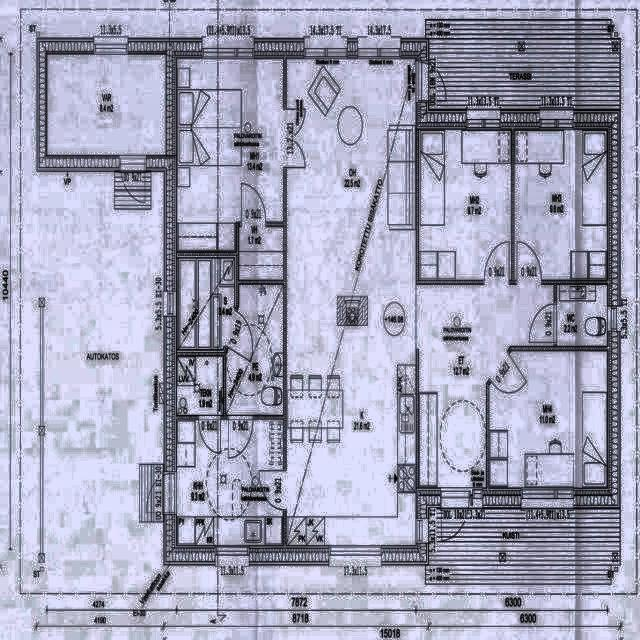room: (177, 58, 283, 251), (489, 351, 607, 487), (419, 129, 511, 280), (515, 131, 607, 280), (177, 420, 283, 545), (47, 54, 166, 155), (226, 284, 283, 415), (178, 258, 235, 350), (557, 285, 607, 345), (177, 357, 223, 415), (239, 227, 283, 280)
